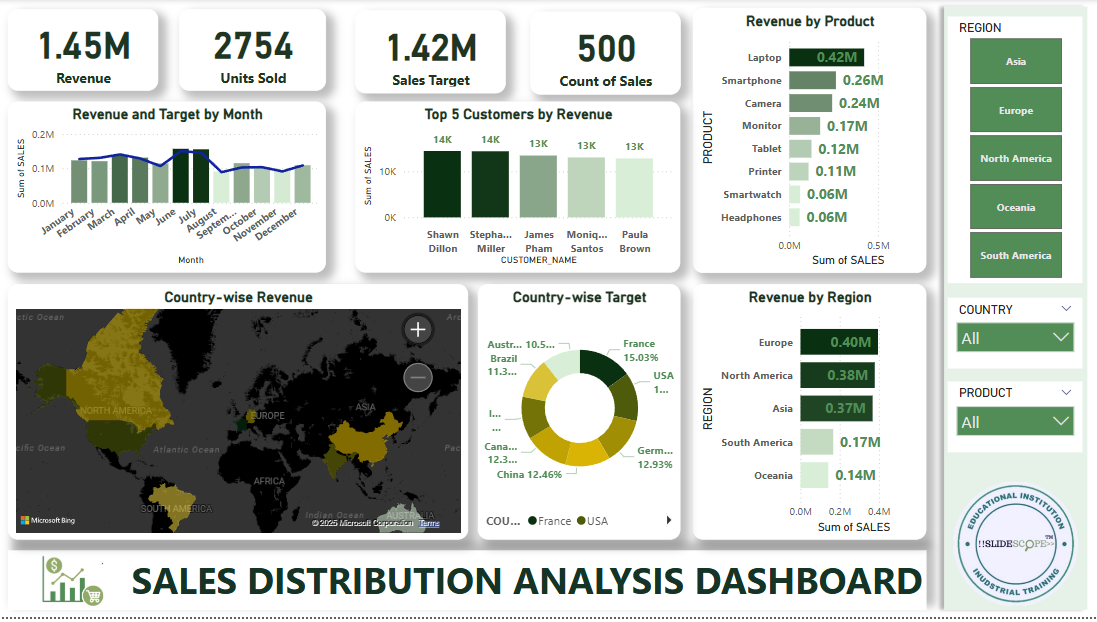

The dashboard page shown, as its layout file describes it:
{"tool":"powerbi","page":{"name":"Page 1","canvas":[1280,720],"ordinal":0},"visuals":[{"type":"textbox","box":[9.7,641,1070,69.6],"z":0},{"type":"shape","box":[1091,0,184.5,720],"z":1000},{"type":"image","box":[1104,556.8,157,153.8],"z":2000},{"type":"card","fields":{"Values":["sales_distribution_data.SALES"]},"box":[9.7,11.3,175,95.5],"z":3000},{"type":"card","fields":{"Values":["sales_distribution_data.QUANTITY"]},"box":[208.8,11.3,171.6,95.5],"z":4000},{"type":"card","fields":{"Values":["sales_distribution_data.Target"]},"box":[414.4,12.9,175,97.1],"z":5000},{"type":"card","fields":{"Values":["sales_distribution_data.Index"]},"box":[618.3,14.6,174.8,97.1],"z":6000},{"type":"clusteredBarChart","title":"Revenue by Product","fields":{"Category":["sales_distribution_data.PRODUCT"],"Y":["sales_distribution_data.SALES"]},"box":[807.7,9.7,271.9,309.2],"z":7000},{"type":"clusteredBarChart","title":"Revenue by Region","fields":{"Y":["sales_distribution_data.SALES"],"Category":["sales_distribution_data.REGION"]},"box":[807.7,331.8,271.9,297.8],"z":8000},{"type":"lineStackedColumnComboChart","title":"Revenue and Target by Month","fields":{"Category":["sales_distribution_data.DATE.Variation.Date Hierarchy.Month"],"Y":["sales_distribution_data.SALES"],"Y2":["sales_distribution_data.Target"]},"box":[9.7,119.8,370.7,199.1],"z":9000},{"type":"slicer","fields":{"Values":["sales_distribution_data.REGION"]},"box":[1104,21,157,310.8],"z":10000},{"type":"slicer","fields":{"Values":["sales_distribution_data.COUNTRY"]},"box":[1104,348,157,82.6],"z":11000},{"type":"slicer","fields":{"Values":["sales_distribution_data.PRODUCT"]},"box":[1104,445.1,157,82.6],"z":12000},{"type":"clusteredColumnChart","title":"Top 5 Customers by Revenue","fields":{"Category":["sales_distribution_data.CUSTOMER_NAME"],"Y":["sales_distribution_data.SALES"]},"box":[414.4,119.8,378.8,199.1],"z":13000},{"type":"filledMap","title":"Country-wise Revenue","fields":{"Category":["sales_distribution_data.COUNTRY"]},"box":[9.7,331.8,535.8,297.8],"z":14000},{"type":"donutChart","title":"Country-wise Target","fields":{"Category":["sales_distribution_data.COUNTRY"],"Y":["sales_distribution_data.Target"]},"box":[556.8,331.8,236.3,297.8],"z":15000},{"type":"image","box":[43.7,634.2,82.6,85.8],"z":16000}]}

Visuals, with their boxes in screenshot pixels (x1, y1, x2, y2), scaled from the page's 1280x720 canvas onto the 1097x622 screenshot:
textbox: select_region(8, 554, 925, 614)
shape: select_region(935, 0, 1093, 621)
image: select_region(946, 481, 1081, 614)
card - sales_distribution_data.SALES: select_region(8, 10, 158, 92)
card - sales_distribution_data.QUANTITY: select_region(179, 10, 326, 92)
card - sales_distribution_data.Target: select_region(355, 11, 505, 95)
card - sales_distribution_data.Index: select_region(530, 13, 680, 96)
"Revenue by Product" clusteredBarChart: select_region(692, 8, 925, 275)
"Revenue by Region" clusteredBarChart: select_region(692, 287, 925, 544)
"Revenue and Target by Month" lineStackedColumnComboChart: select_region(8, 103, 326, 275)
slicer - sales_distribution_data.REGION: select_region(946, 18, 1081, 287)
slicer - sales_distribution_data.COUNTRY: select_region(946, 301, 1081, 372)
slicer - sales_distribution_data.PRODUCT: select_region(946, 385, 1081, 456)
"Top 5 Customers by Revenue" clusteredColumnChart: select_region(355, 103, 680, 275)
"Country-wise Revenue" filledMap: select_region(8, 287, 468, 544)
"Country-wise Target" donutChart: select_region(477, 287, 680, 544)
image: select_region(37, 548, 108, 621)
